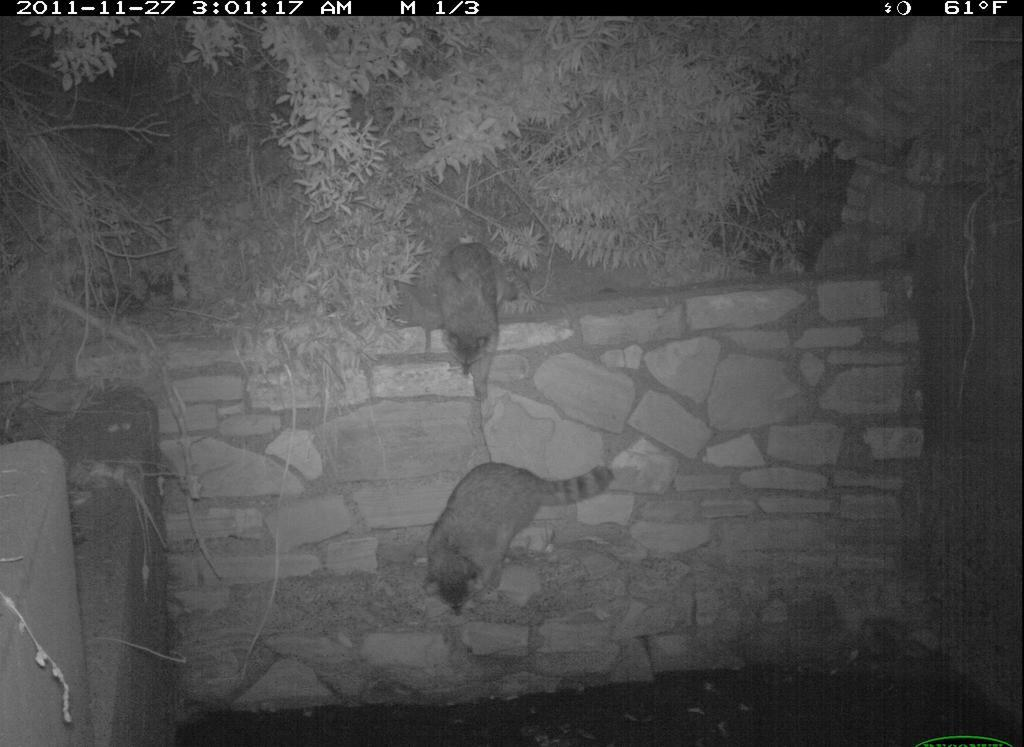raccoon: (391, 441, 633, 628), (413, 230, 552, 415)
